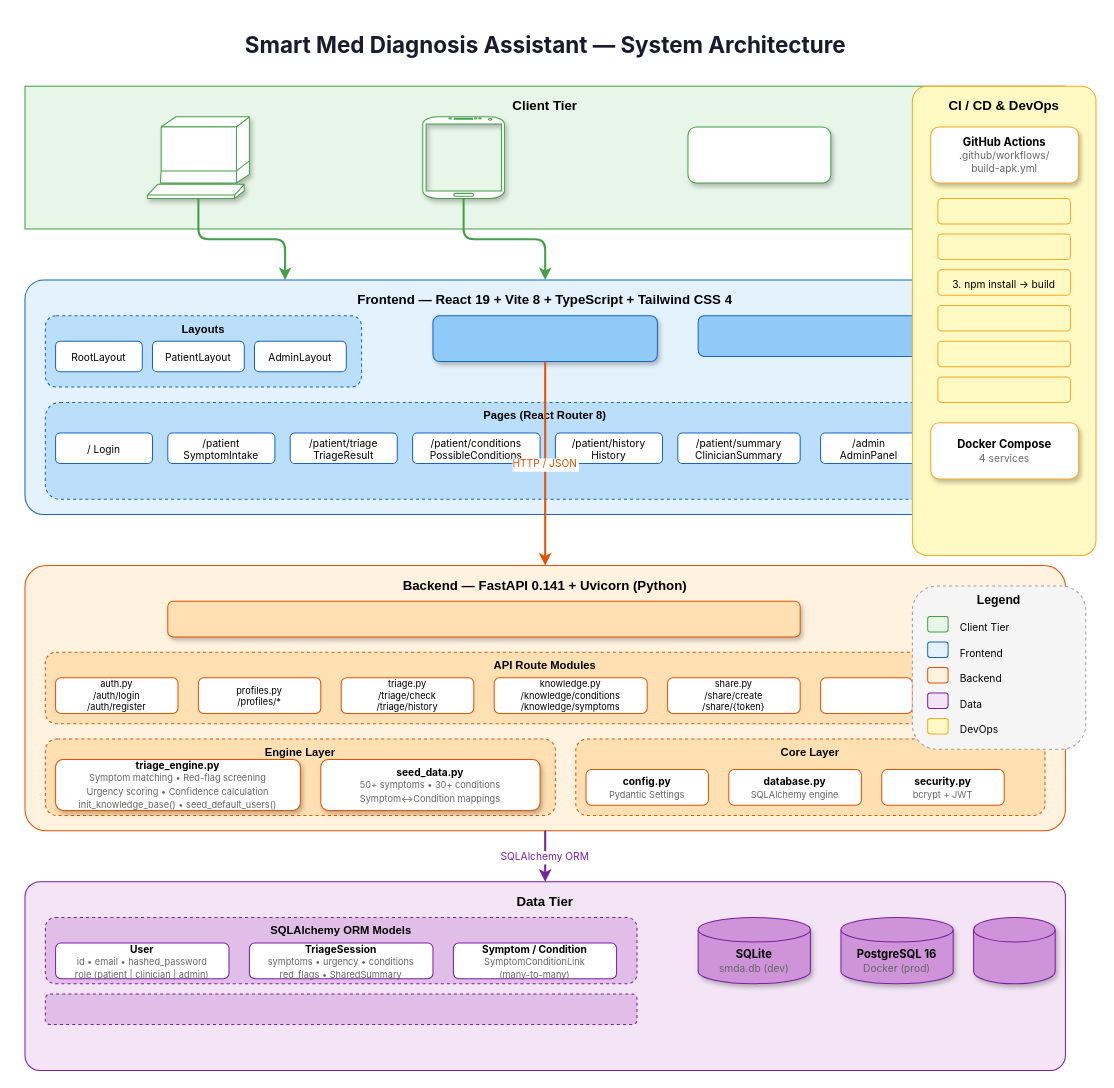
Some shapes in this 1114 by 1088 pixel diagram are drawn without their labels. The shapes that lost their labels are listed below. From the top down, each one's centre as x and y in pixels, then its label:
(199,159): Web Browser (Desktop / Mobile) localhost:8443
(464,159): Android APK (Capacitor 8) com.smda.app
(760,156): Swagger / ReDoc /docs • /redoc
(1003,210): 1. Checkout (LFS)
(1003,246): 2. Node 22 + Java 17 + Android SDK
(810,335): Recharts • Lucide • Radix UI • CVA
(1003,317): 4. npx cap sync android
(546,340): src/lib/api.ts fetch() + JWT Bearer token
(1003,353): 5. gradlew assembleDebug
(1003,389): 6. Upload APK Artifact
(484,620): API Gateway /api/v1/* • CORS • JWT Auth
(866,695): GET /health
(1014,951): Redis 7 Cache (Docker)
(340,1009): Pydantic Schemas: auth.py • triage.py • knowledge.py • profile.py • share.py
